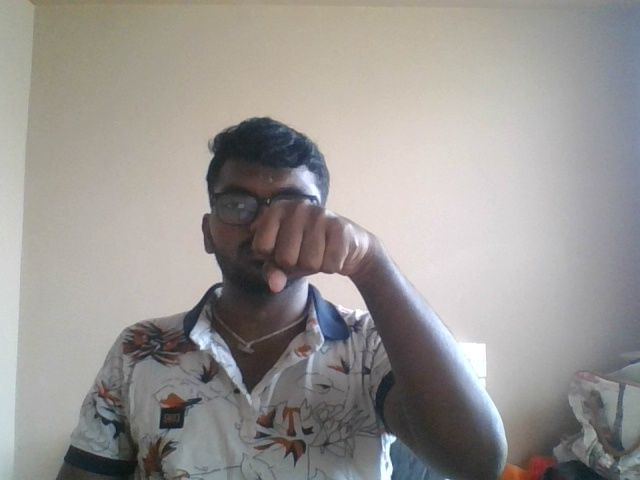Yes: (242, 180, 416, 354)
